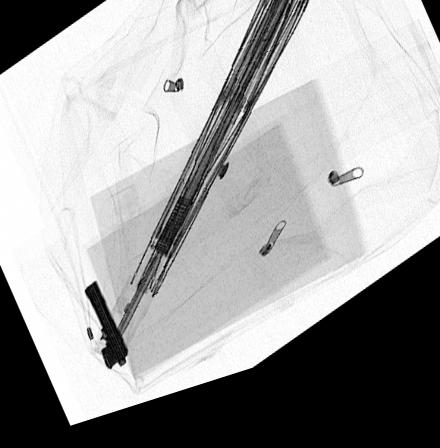Gun: (84, 283, 131, 377)
